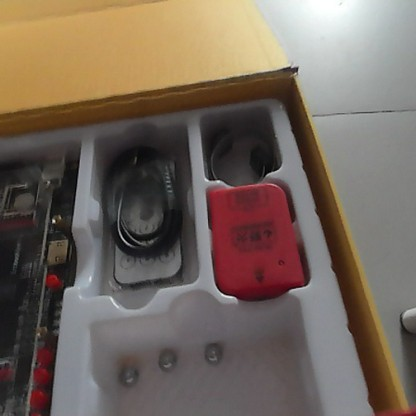ironball: (199, 341, 223, 368), (116, 365, 140, 387), (156, 349, 176, 373)
